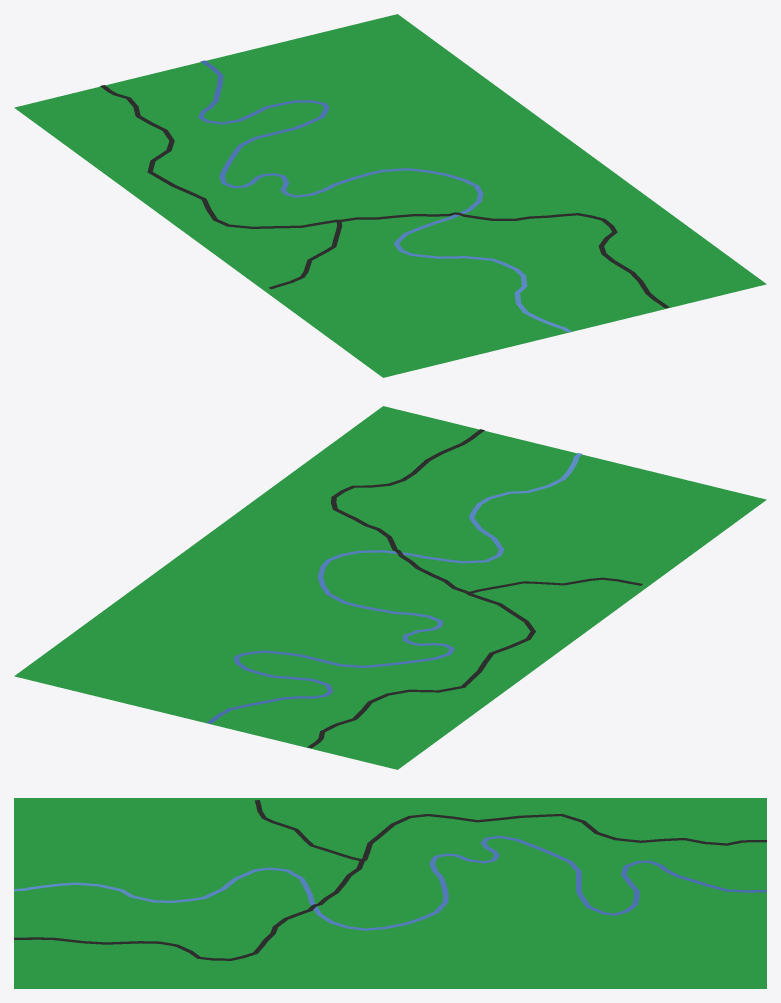
File: 03_printemps.glb
The picture shows the model from 3 angles, top to bottom: view 1: azimuth 30°, elevation 25°; view 2: azimuth 150°, elevation 25°; view 3: azimuth 270°, elevation 25°; orthographic projection.
Parts seen in each view (by area): view 1: 03_sol, 03_riviere, 03_route; view 2: 03_sol, 03_riviere, 03_route; view 3: 03_sol, 03_riviere, 03_route.
Part boxes in pixels (x1=…): 03_sol: x1=14, y1=14, x2=766, y2=377; 03_riviere: x1=198, y1=60, x2=571, y2=332; 03_route: x1=100, y1=85, x2=669, y2=308; 03_sol: x1=14, y1=406, x2=766, y2=769; 03_riviere: x1=207, y1=453, x2=582, y2=723; 03_route: x1=307, y1=429, x2=642, y2=748; 03_sol: x1=14, y1=798, x2=766, y2=988; 03_riviere: x1=14, y1=835, x2=766, y2=930; 03_route: x1=14, y1=800, x2=766, y2=960.
Bounding box in the file's own units: 60 × 0.3454 × 100.
Materials: 2 (2 with a texture image).
